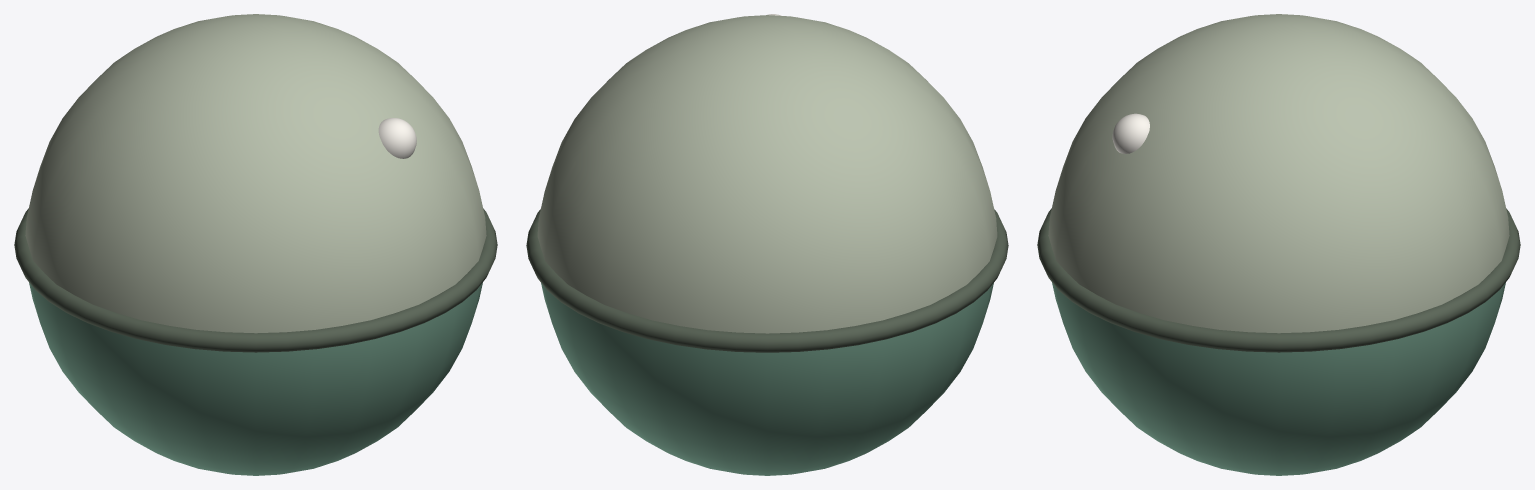
File: hopper-ball-1.glb
The picture shows the model from 3 angles, left to right: view 1: azimuth 30°, elevation 25°; view 2: azimuth 150°, elevation 25°; view 3: azimuth 270°, elevation 25°; orthographic projection.
Visible parts, largest first — view 1: HopperBall1_Batch0, HopperBall1_Batch1; view 2: HopperBall1_Batch0, HopperBall1_Batch1; view 3: HopperBall1_Batch0, HopperBall1_Batch1.
Part boxes in pixels (left/top/right/bottom): HopperBall1_Batch0: left=25, top=14, right=486, bottom=475; HopperBall1_Batch1: left=14, top=118, right=497, bottom=352; HopperBall1_Batch0: left=537, top=15, right=997, bottom=475; HopperBall1_Batch1: left=526, top=14, right=1008, bottom=352; HopperBall1_Batch0: left=1048, top=14, right=1509, bottom=475; HopperBall1_Batch1: left=1037, top=113, right=1520, bottom=352.
Size of the model in its own units: 0.037 by 0.0354 by 0.037.
